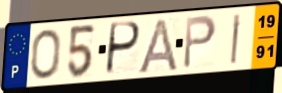5: (66, 22, 98, 81)
A: (135, 16, 180, 75)
I: (229, 13, 243, 67)
O: (30, 28, 62, 81)
P: (103, 20, 142, 77), (182, 14, 219, 71)
